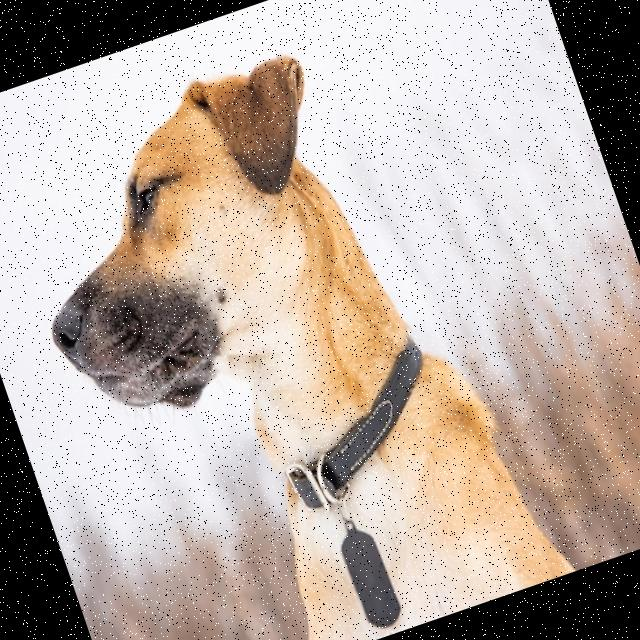Dog: (0, 11, 583, 640)
